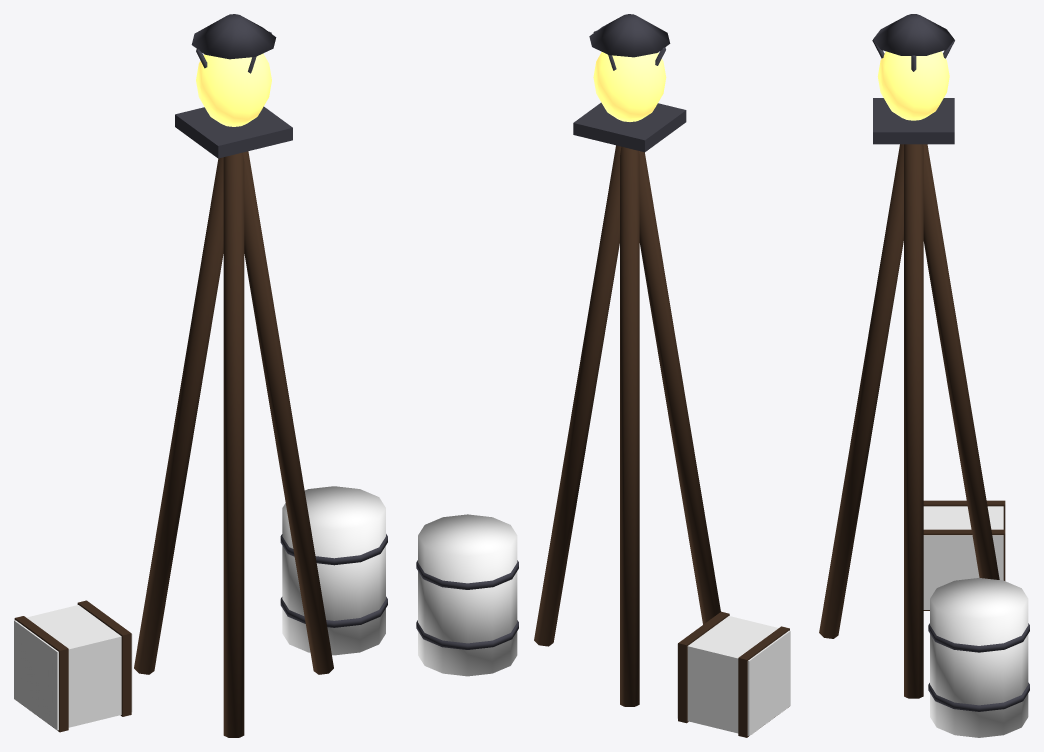
Rendered from lampa_pomocnicza.glb.
3 views of the same model, side by side, from view 1: azimuth 30°, elevation 25°; view 2: azimuth 150°, elevation 25°; view 3: azimuth 270°, elevation 25° (orthographic). The views are drawn at different scales.
Visible parts, largest first — view 1: lampa_p_3, lampa_p_12, lampa_p_1, lampa_p_2, lampa_p_15, lampa_p_5, lampa_p_4, lampa_p_6, lampa_p_17, lampa_p_16, lampa_p_13, lampa_p_14; view 2: lampa_p_12, lampa_p_2, lampa_p_1, lampa_p_15, lampa_p_3, lampa_p_5, lampa_p_4, lampa_p_6, lampa_p_16, lampa_p_17, lampa_p_13, lampa_p_14; view 3: lampa_p_12, lampa_p_1, lampa_p_3, lampa_p_2, lampa_p_15, lampa_p_5, lampa_p_4, lampa_p_6, lampa_p_13, lampa_p_14, lampa_p_17, lampa_p_16.
Boxes of the visible parts, x1=… form: lampa_p_3: x1=223, y1=152, x2=244, y2=737; lampa_p_12: x1=282, y1=486, x2=385, y2=655; lampa_p_1: x1=243, y1=151, x2=333, y2=674; lampa_p_2: x1=134, y1=157, x2=223, y2=674; lampa_p_15: x1=14, y1=605, x2=132, y2=730; lampa_p_5: x1=196, y1=53, x2=271, y2=126; lampa_p_4: x1=175, y1=106, x2=292, y2=158; lampa_p_6: x1=191, y1=14, x2=276, y2=59; lampa_p_17: x1=77, y1=600, x2=131, y2=716; lampa_p_16: x1=14, y1=616, x2=68, y2=732; lampa_p_13: x1=280, y1=596, x2=387, y2=627; lampa_p_14: x1=280, y1=534, x2=387, y2=565; lampa_p_12: x1=418, y1=514, x2=517, y2=676; lampa_p_2: x1=620, y1=146, x2=639, y2=706; lampa_p_1: x1=534, y1=145, x2=621, y2=646; lampa_p_15: x1=677, y1=616, x2=790, y2=735; lampa_p_3: x1=639, y1=151, x2=720, y2=624; lampa_p_5: x1=593, y1=52, x2=666, y2=121; lampa_p_4: x1=573, y1=102, x2=686, y2=152; lampa_p_6: x1=589, y1=14, x2=670, y2=57; lampa_p_16: x1=738, y1=626, x2=789, y2=737; lampa_p_17: x1=678, y1=611, x2=729, y2=723; lampa_p_13: x1=416, y1=620, x2=518, y2=649; lampa_p_14: x1=416, y1=560, x2=518, y2=589; lampa_p_12: x1=930, y1=578, x2=1028, y2=737; lampa_p_1: x1=904, y1=144, x2=923, y2=698; lampa_p_3: x1=819, y1=144, x2=903, y2=638; lampa_p_2: x1=923, y1=144, x2=999, y2=579; lampa_p_15: x1=923, y1=506, x2=1003, y2=609; lampa_p_5: x1=877, y1=51, x2=949, y2=120; lampa_p_4: x1=873, y1=98, x2=954, y2=144; lampa_p_6: x1=873, y1=14, x2=954, y2=55; lampa_p_13: x1=928, y1=682, x2=1029, y2=711; lampa_p_14: x1=928, y1=623, x2=1029, y2=652; lampa_p_17: x1=923, y1=529, x2=1005, y2=610; lampa_p_16: x1=923, y1=500, x2=1005, y2=529.
Bounding box in the file's own units: 2.36 × 4.31 × 1.29.
